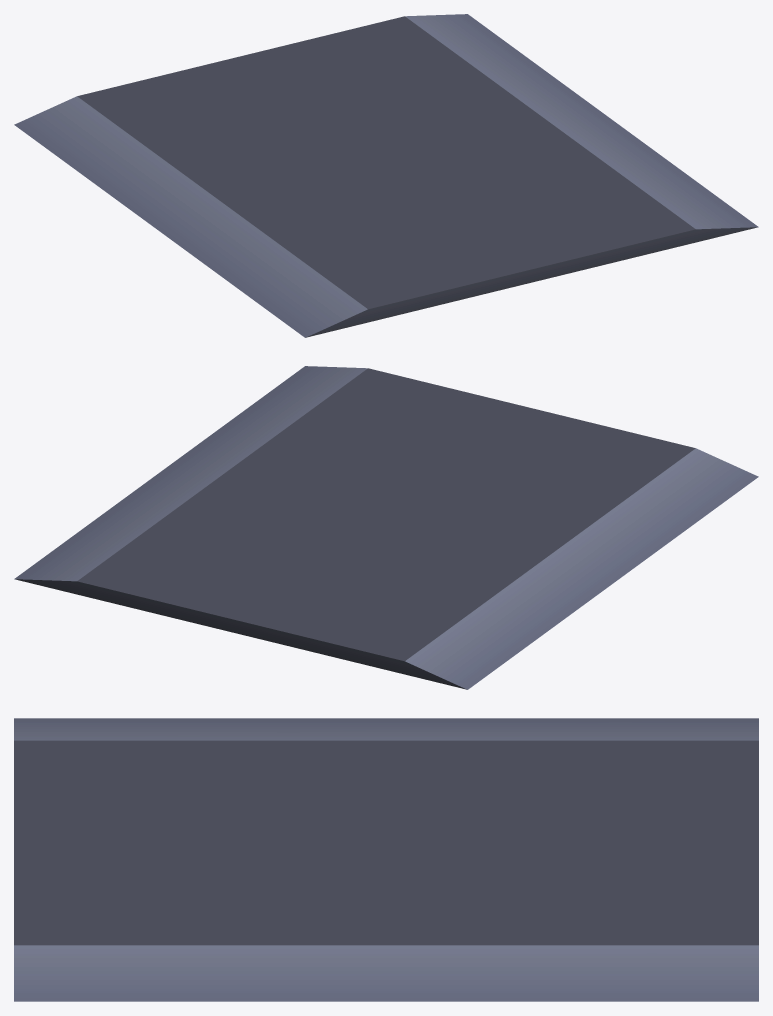
The model's file is driveway-long.glb.
The picture shows the model from 3 angles, top to bottom: view 1: azimuth 30°, elevation 25°; view 2: azimuth 150°, elevation 25°; view 3: azimuth 270°, elevation 25°; orthographic projection. The views are drawn at different scales.
Parts seen in each view (by area): view 1: driveway-long; view 2: driveway-long; view 3: driveway-long.
Part boxes in pixels (x1,y1,x2,y2): driveway-long: (14, 14, 758, 337); driveway-long: (14, 366, 758, 689); driveway-long: (14, 718, 758, 1001).
Bounding box in the file's own units: 0.36 × 0.01 × 0.4.
1 material, 1 textured.
